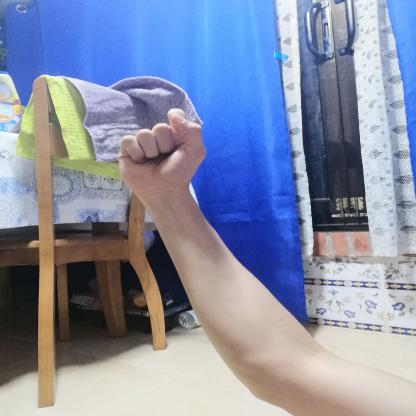FAA: (104, 98, 212, 202)
